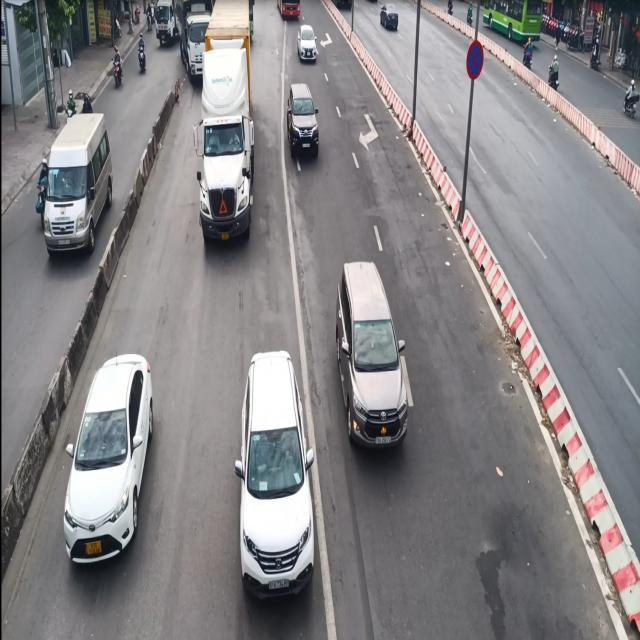bus: (481, 0, 544, 46)
car: (233, 349, 316, 601), (62, 352, 153, 565), (334, 260, 410, 449), (34, 111, 113, 256), (296, 24, 318, 63)
container-truck: (194, 0, 266, 257)
person: (547, 54, 560, 89), (522, 36, 536, 68), (65, 89, 76, 117)
